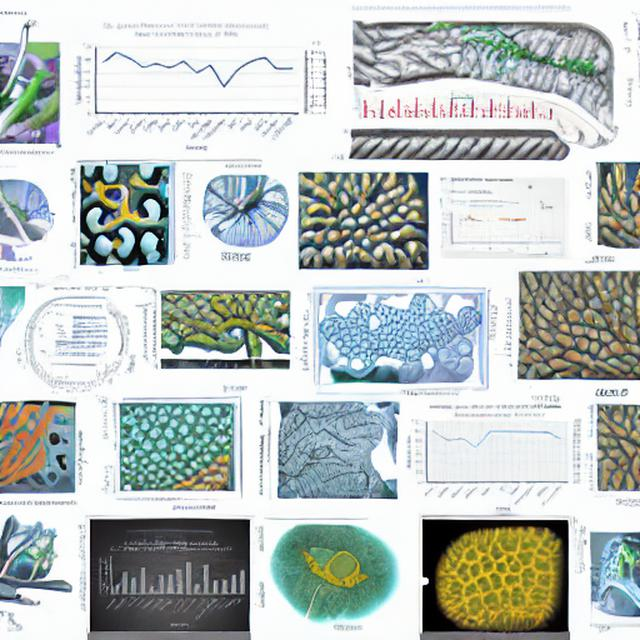Graph: (70, 17, 302, 157), (402, 410, 572, 510), (93, 538, 250, 632), (441, 199, 532, 251), (350, 88, 404, 123), (43, 363, 99, 396)
